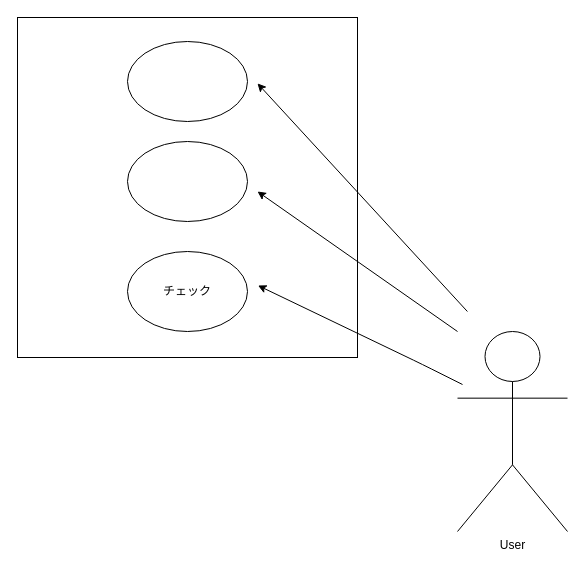
Some shapes in this 585 by 570 pixel diagram are drawn without their labels. The box of each missing label's shape, as (x1, y1, x2, y2) in pixels:
ログイン: (126, 40, 248, 122)
覚える: (126, 140, 248, 222)
